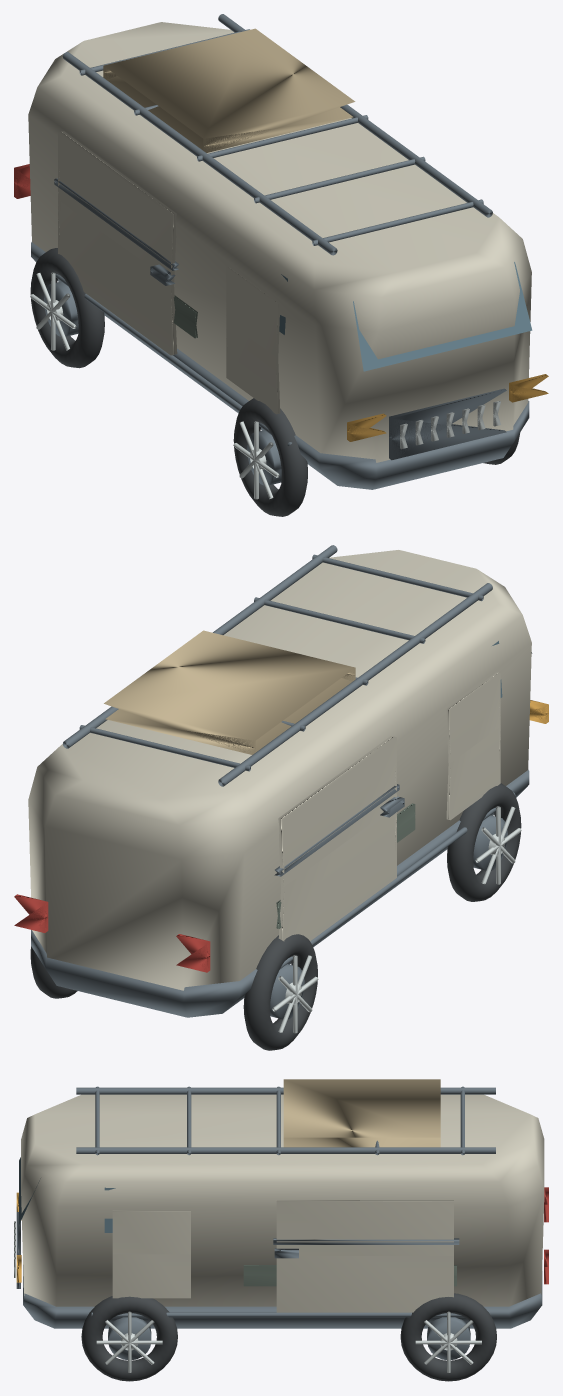
The model's file is modulo_v7.glb.
The picture shows the model from 3 angles, top to bottom: view 1: azimuth 30°, elevation 25°; view 2: azimuth 150°, elevation 25°; view 3: azimuth 270°, elevation 25°; orthographic projection. The views are drawn at different scales.
Visible parts, largest first — view 1: painel_externo, bagageiro_tarp, painel_porta_deslizante_-1, chassi_comprido, porta_cabine_-1, roda_-1_1.52_pneu, roda_-1_-1.65_pneu, grade_dianteira, rack_longo_-1, parabrisa_modulo, rack_longo_1, soleira_-1 (+9 smaller); view 2: painel_externo, bagageiro_tarp, painel_porta_deslizante_-1, chassi_comprido, porta_cabine_-1, roda_-1_-1.65_pneu, roda_-1_1.52_pneu, rack_longo_-1, rack_longo_1, soleira_-1, trilho_porta_carga_-1, rack_cruzado_0.93 (+8 smaller); view 3: painel_externo, painel_porta_deslizante_1, bagageiro_tarp, porta_cabine_1, chassi_comprido, roda_1_1.52_pneu, roda_1_-1.65_pneu, rack_longo_1, rack_longo_-1, soleira_1, trilho_porta_carga_1, roda_1_-1.65_cubo (+2 smaller).
Boxes of the visible parts, x1,y1,x2,y2 form: painel_externo: (28, 22, 531, 462); bagageiro_tarp: (103, 28, 355, 152); painel_porta_deslizante_-1: (58, 131, 177, 355); chassi_comprido: (31, 242, 529, 489); porta_cabine_-1: (226, 266, 280, 414); roda_-1_1.52_pneu: (233, 398, 307, 516); roda_-1_-1.65_pneu: (30, 248, 104, 368); grade_dianteira: (389, 388, 506, 460); rack_longo_-1: (62, 52, 337, 255); parabrisa_modulo: (353, 262, 532, 371); rack_longo_1: (218, 14, 492, 217); soleira_-1: (55, 274, 291, 446); painel_externo: (28, 550, 531, 990); bagageiro_tarp: (104, 630, 355, 754); painel_porta_deslizante_-1: (278, 736, 396, 941); chassi_comprido: (31, 770, 529, 1017); porta_cabine_-1: (446, 672, 500, 820); roda_-1_-1.65_pneu: (243, 934, 317, 1050); roda_-1_1.52_pneu: (447, 783, 521, 901); rack_longo_-1: (218, 583, 492, 786); rack_longo_1: (63, 545, 337, 748); soleira_-1: (280, 792, 515, 968); trilho_porta_carga_-1: (274, 784, 399, 876); rack_cruzado_0.93: (254, 597, 425, 643); painel_externo: (21, 1094, 544, 1306); painel_porta_deslizante_1: (276, 1200, 453, 1312); bagageiro_tarp: (283, 1079, 440, 1147); porta_cabine_1: (112, 1210, 190, 1298); chassi_comprido: (23, 1265, 542, 1328); roda_1_1.52_pneu: (81, 1296, 177, 1381); roda_1_-1.65_pneu: (400, 1293, 496, 1381); rack_longo_1: (76, 1147, 495, 1153); rack_longo_-1: (76, 1087, 495, 1094); soleira_1: (91, 1312, 463, 1317); trilho_porta_carga_1: (273, 1238, 459, 1244); roda_1_-1.65_cubo: (427, 1317, 470, 1359).
Size of the model in its own units: 2.22 by 2.54 by 5.32.
